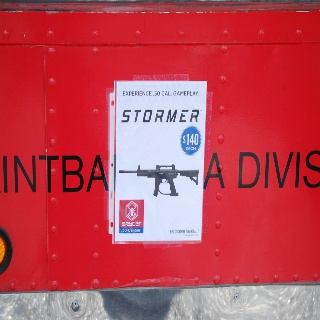rifle: (118, 163, 200, 197)
